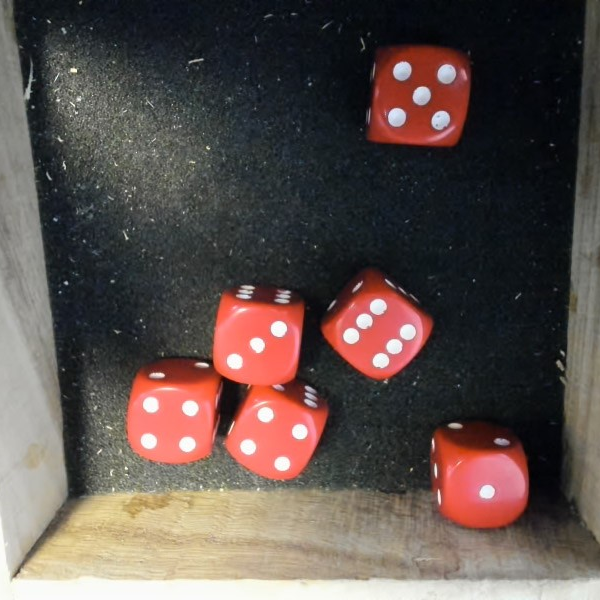red_die_pip1: (429, 418, 530, 530)
red_die_pip3: (209, 272, 309, 389)
red_die_pip4: (222, 354, 343, 490), (126, 357, 219, 463)
red_die_pip5: (367, 40, 474, 154)
red_die_pip6: (311, 252, 449, 391)
